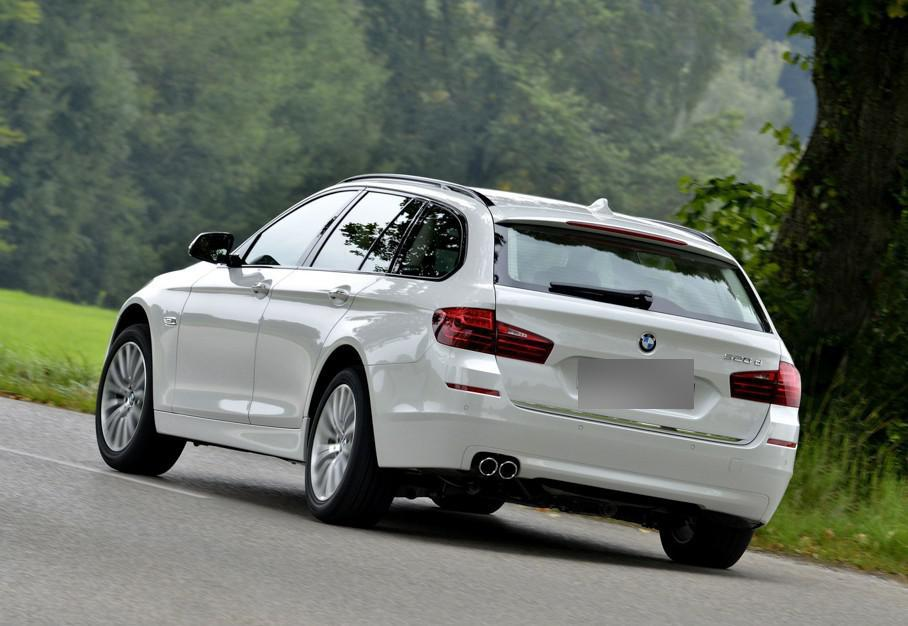Wagon: (94, 171, 803, 571)
